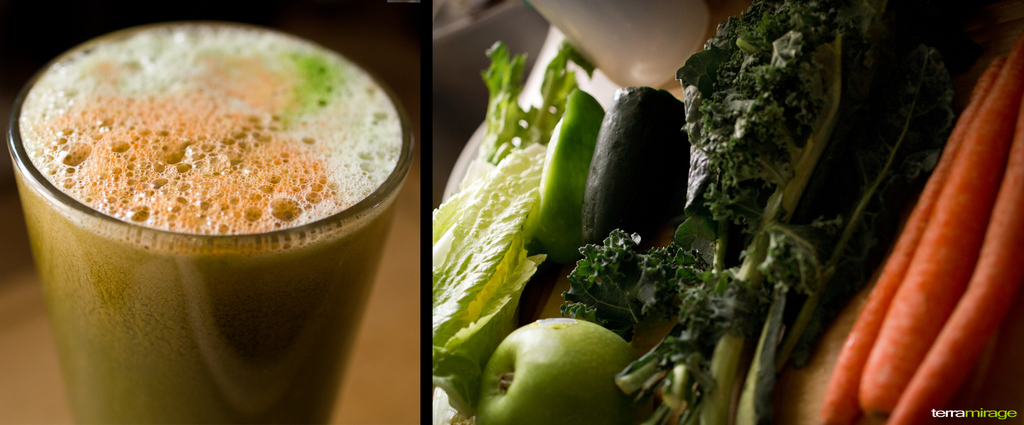Apple: (478, 310, 646, 413)
